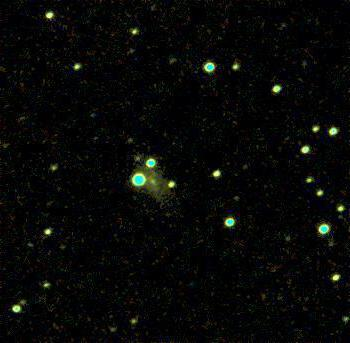star: (101, 312, 131, 342)
